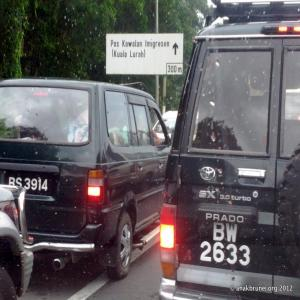Vehicle-registration-plate: (198, 221, 256, 269), (5, 170, 51, 195)
